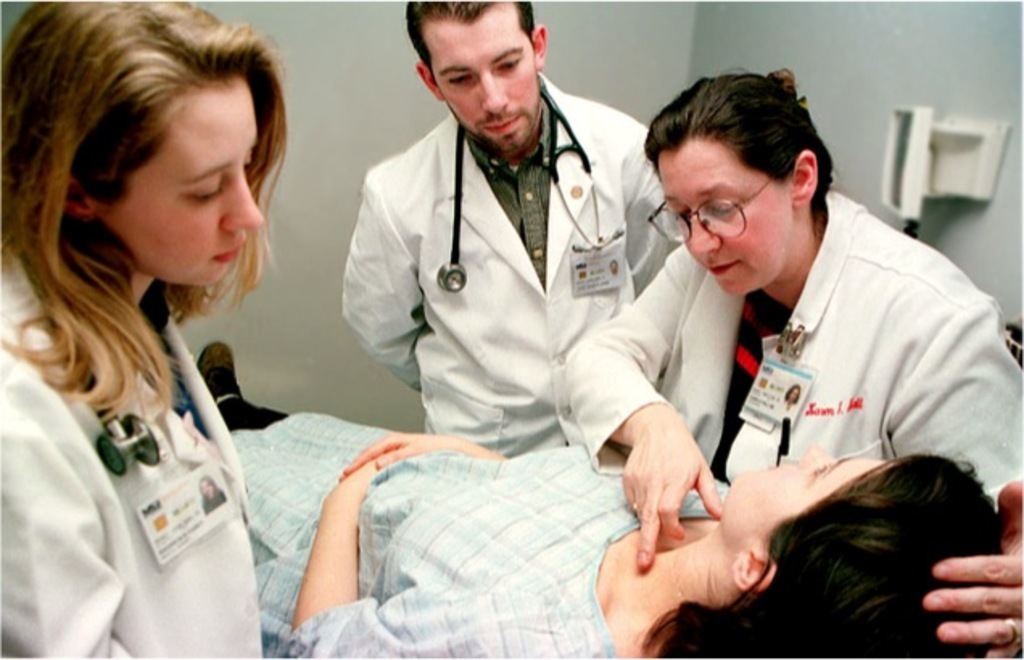Person: (563, 65, 1024, 658), (182, 337, 1007, 660), (338, 0, 687, 461)
